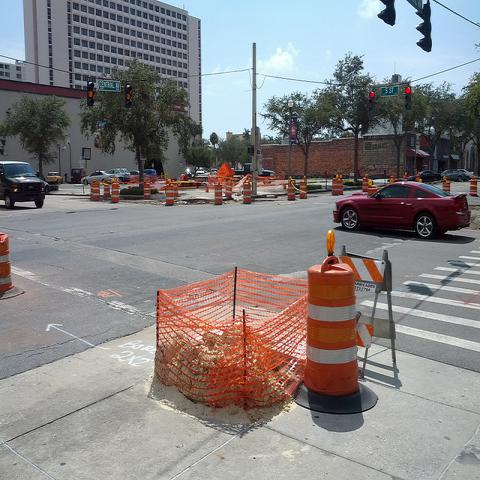car: (333, 180, 474, 237), (0, 159, 52, 210), (80, 170, 116, 186), (244, 163, 276, 176), (408, 170, 442, 182), (442, 169, 466, 182), (108, 168, 131, 181), (46, 171, 64, 184), (143, 168, 158, 183), (71, 168, 86, 183), (458, 169, 474, 181), (196, 168, 205, 176), (128, 170, 140, 176)
truck: (0, 160, 50, 208)
